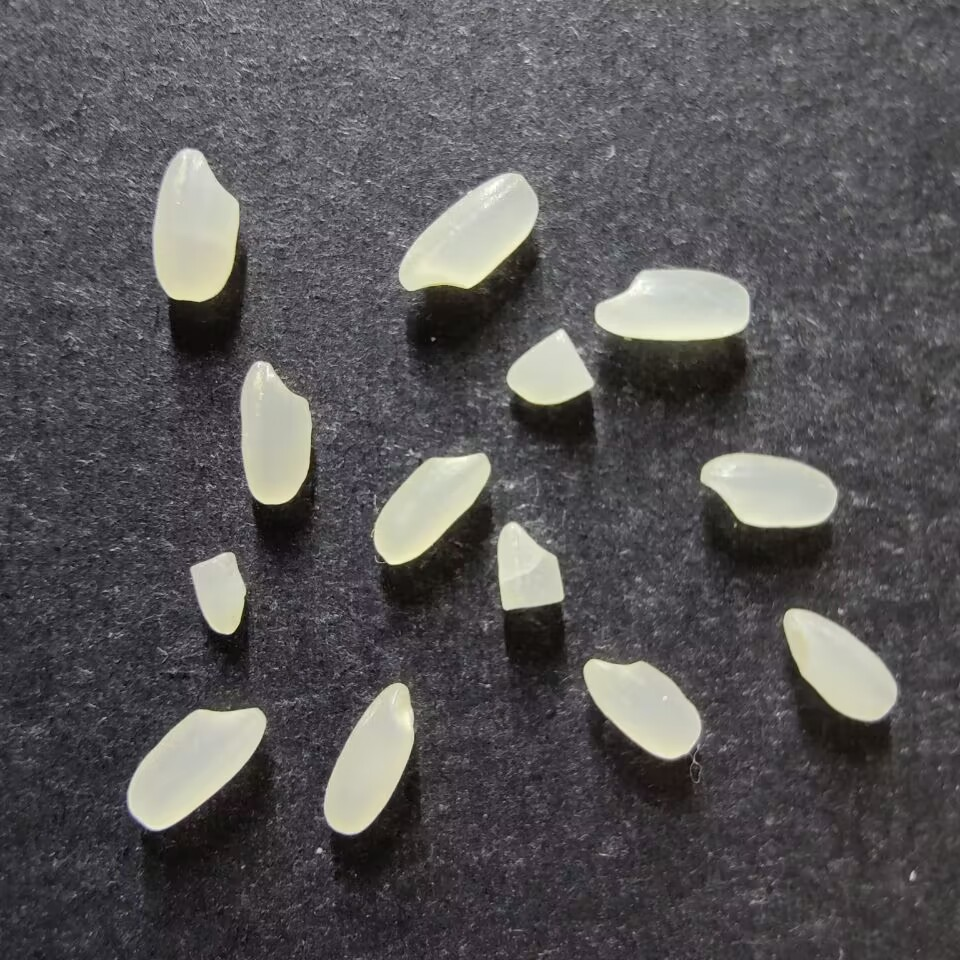broken: (505, 328, 593, 405), (496, 521, 564, 609), (189, 551, 245, 635)
rice: (126, 706, 266, 832), (397, 172, 539, 291), (322, 682, 414, 835), (372, 452, 491, 566), (151, 148, 239, 302), (782, 608, 898, 723), (582, 658, 702, 760), (593, 267, 750, 341), (239, 360, 311, 505), (699, 452, 838, 527)
